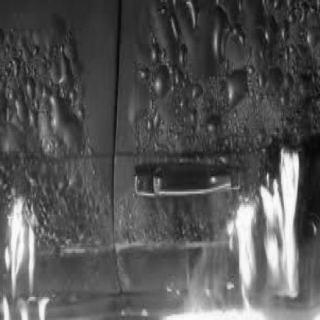Fire: (222, 140, 310, 316)
